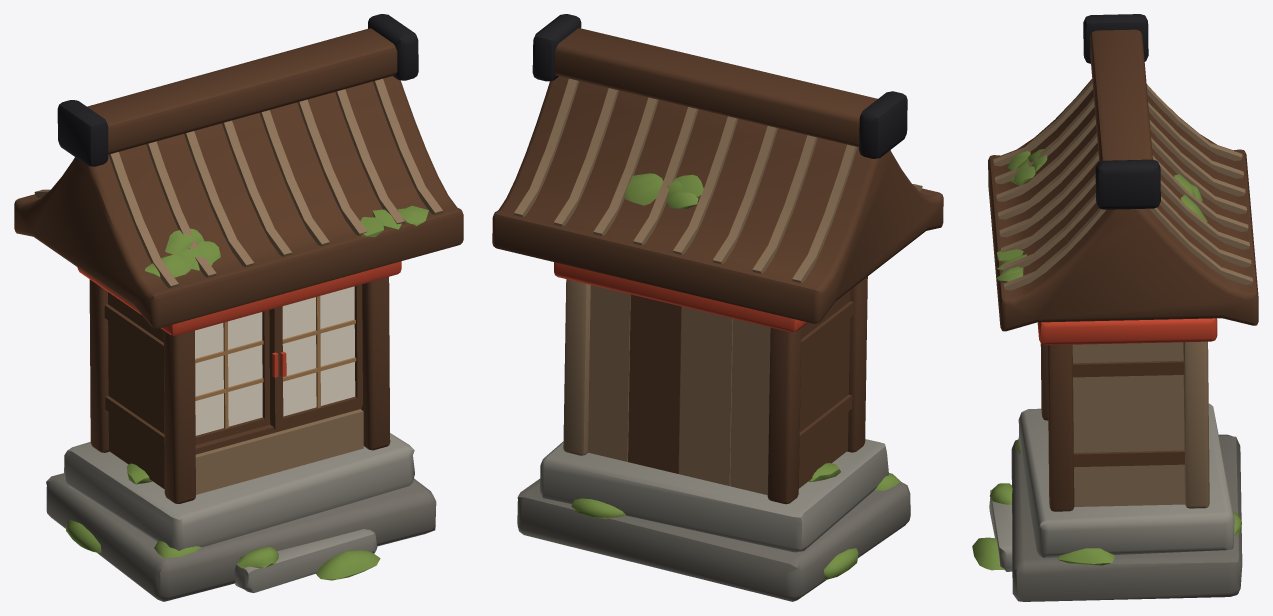
Rendered from hokora.glb.
The picture shows the model from 3 angles, left to right: view 1: azimuth 30°, elevation 25°; view 2: azimuth 150°, elevation 25°; view 3: azimuth 270°, elevation 25°; orthographic projection. The views are drawn at different scales.
Visible parts, largest first — view 1: hokora; view 2: hokora; view 3: hokora.
Boxes of the visible parts, x1,y1,x2,y2 form: hokora: [14, 14, 463, 601]; hokora: [492, 14, 943, 601]; hokora: [972, 14, 1258, 601].
Size of what is drawn, in the model's own units: 1.24 by 1.63 by 0.9308.
